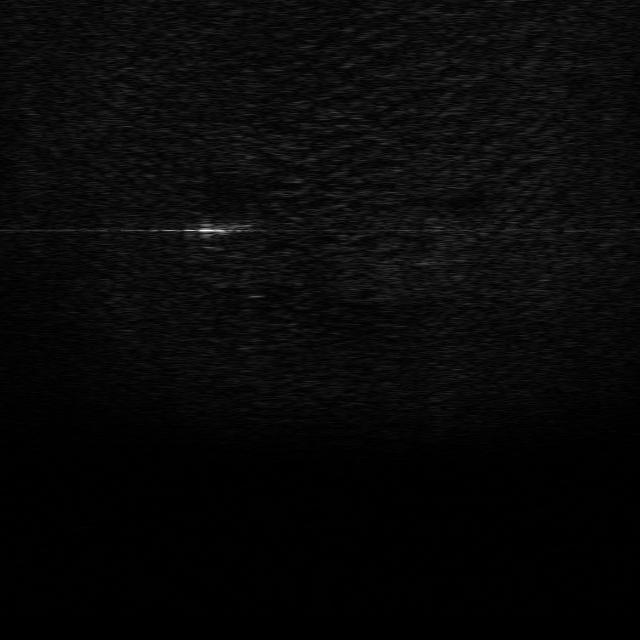plane: (190, 208, 268, 254)
